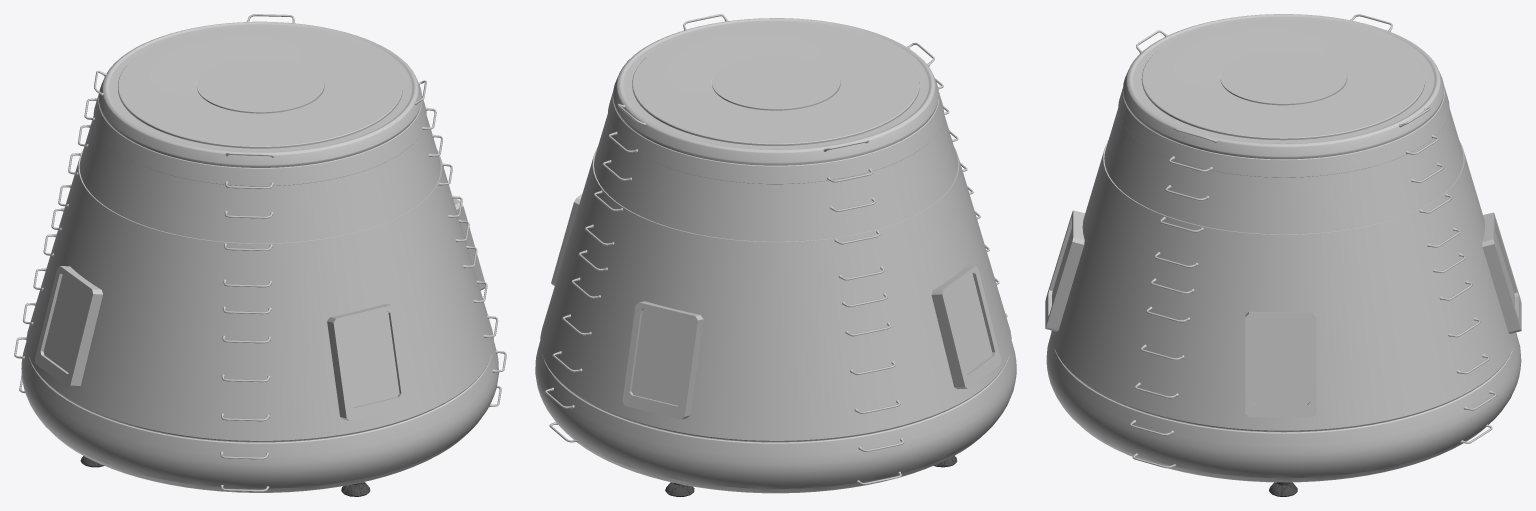
Rendered from Lander_Main.fbx.
The picture shows the model from 3 angles, left to right: view 1: azimuth 30°, elevation 25°; view 2: azimuth 150°, elevation 25°; view 3: azimuth 270°, elevation 25°; orthographic projection.
Visible parts, largest first — view 1: Lander_Main; view 2: Lander_Main; view 3: Lander_Main.
Part boxes in pixels (box(x1,y1,x2,y2)): Lander_Main: box(14, 14, 506, 496); Lander_Main: box(535, 14, 1016, 496); Lander_Main: box(1045, 14, 1521, 496).
Size of the model in its own units: 11.24 by 8.73 by 11.24.
